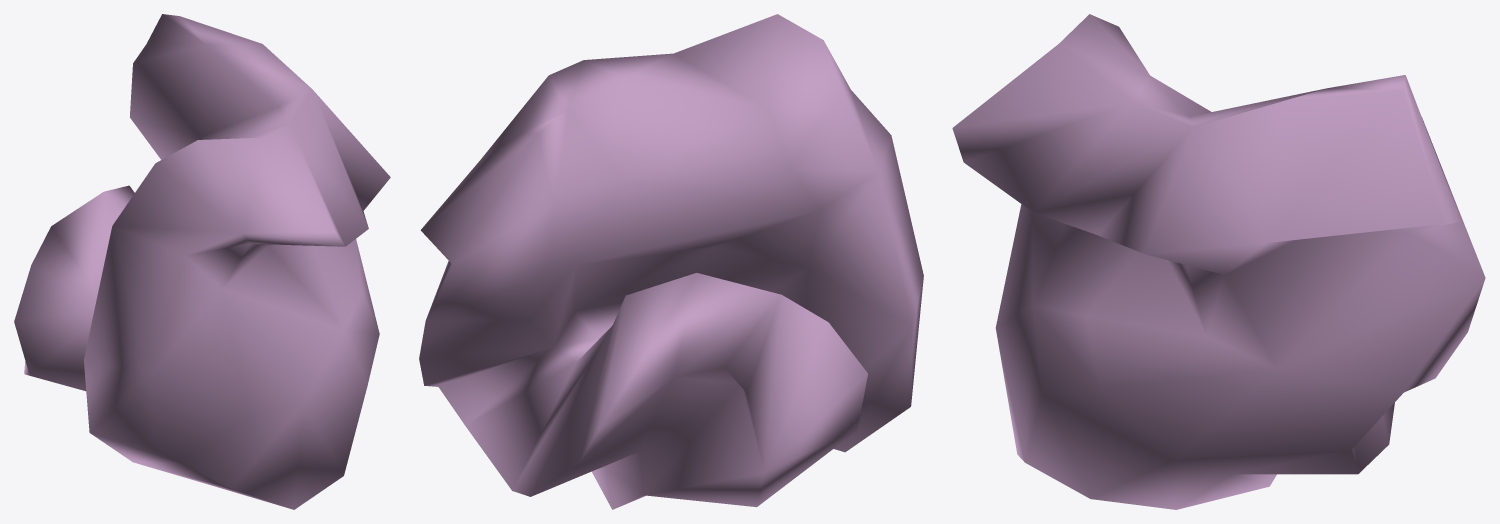
The picture shows the model from 3 angles, left to right: view 1: azimuth 30°, elevation 25°; view 2: azimuth 150°, elevation 25°; view 3: azimuth 270°, elevation 25°; orthographic projection. The views are drawn at different scales.
Parts seen in each view (by area): view 1: 左侧眶外侧沟; view 2: 左侧眶外侧沟; view 3: 左侧眶外侧沟.
Boxes of the visible parts, bbox=[...] form: 左侧眶外侧沟: bbox=[14, 14, 390, 509]; 左侧眶外侧沟: bbox=[419, 14, 923, 509]; 左侧眶外侧沟: bbox=[952, 14, 1485, 509].
Size of the model in its own units: 0.0196 by 0.0208 by 0.0241.
